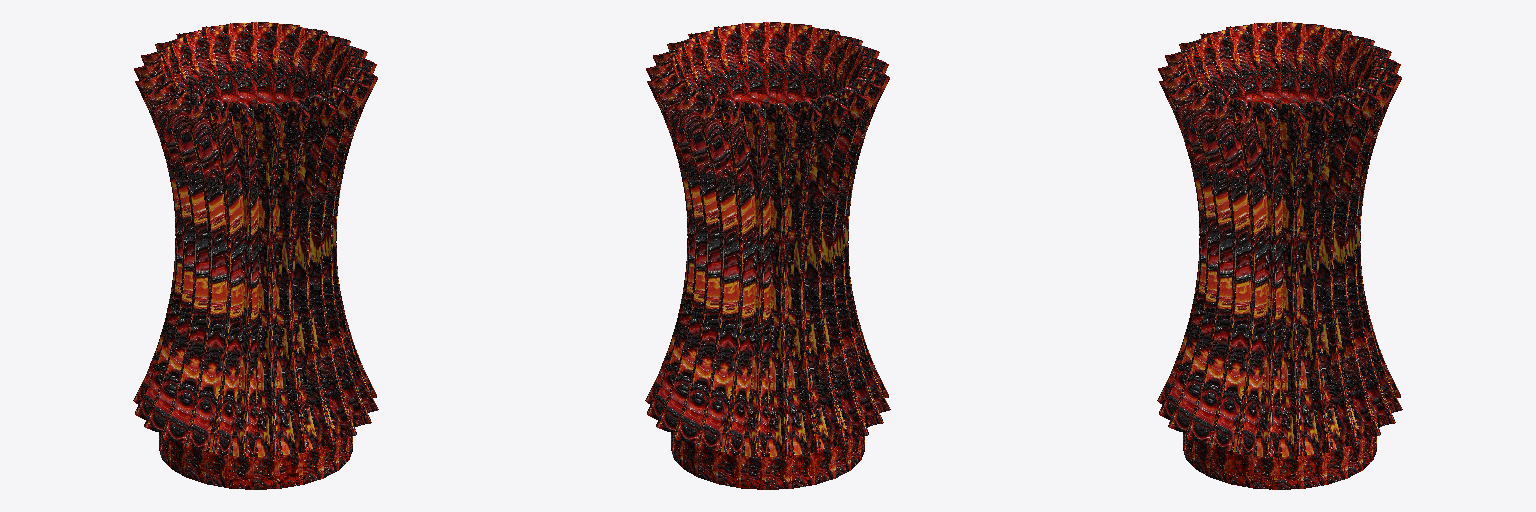
The picture shows the model from 3 angles: view 1: azimuth 30°, elevation 25°; view 2: azimuth 150°, elevation 25°; view 3: azimuth 270°, elevation 25°; orthographic projection.
Visible parts, largest first — view 1: mesh1_mesh1-geometry; view 2: mesh1_mesh1-geometry; view 3: mesh1_mesh1-geometry.
Boxes of the visible parts, <box> form: mesh1_mesh1-geometry: <box>133,22,378,489</box>; mesh1_mesh1-geometry: <box>645,22,890,489</box>; mesh1_mesh1-geometry: <box>1157,22,1402,489</box>.
Bounding box in the file's own units: 0.4466 × 0.7753 × 0.4466.
Materials: 2 (2 with a texture image).